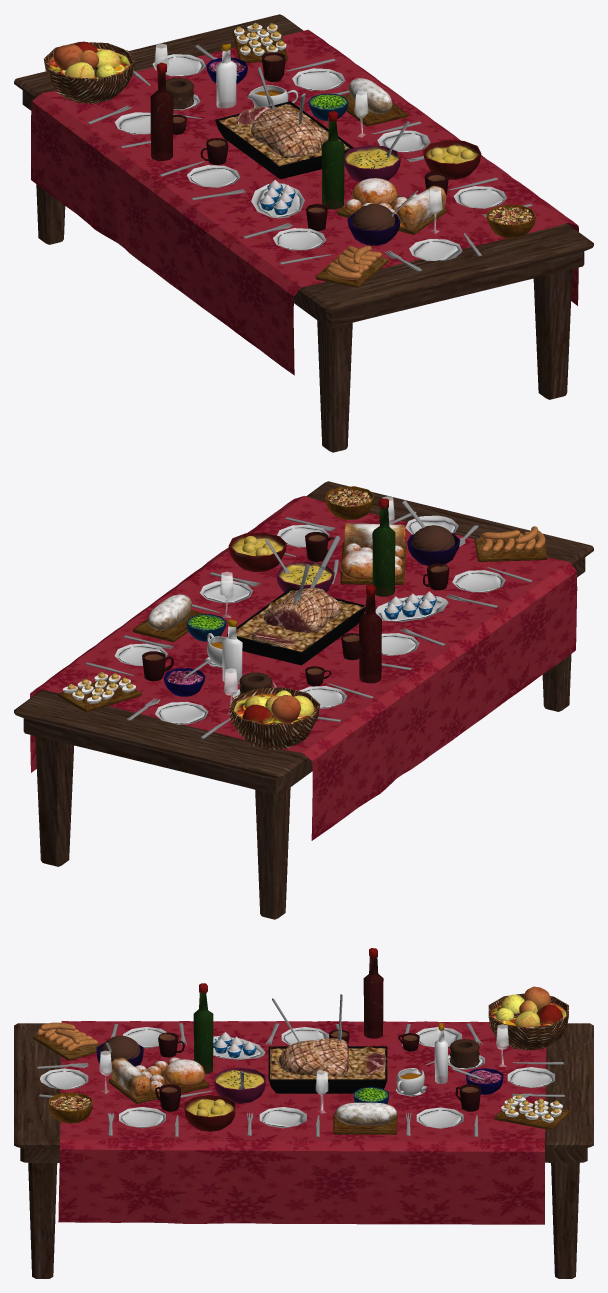
Rendered from diner.glb.
3 views of the same model, one above another, from view 1: azimuth 30°, elevation 25°; view 2: azimuth 150°, elevation 25°; view 3: azimuth 270°, elevation 25° (orthographic). The views are drawn at different scales.
Parts seen in each view (by area): view 1: polySurface16_tischdecke_0, polySurface17_tisch_0, pSphere11_teller1_0, pCube2_braten_0, pCylinder12_flaschen_0, pSphere33_obstschale_0, pCube8_besteck_0, pCube3_lambert10_0, pSphere19_lambert11_0, pDisc5_tasse_0, object 23, polySurface18_pudding_0 (+10 smaller); view 2: polySurface16_tischdecke_0, polySurface17_tisch_0, pSphere11_teller1_0, pCube2_braten_0, pCylinder12_flaschen_0, pSphere33_obstschale_0, pCube3_lambert10_0, pCube8_besteck_0, pDisc5_tasse_0, pSphere19_lambert11_0, object 23, polySurface18_pudding_0 (+9 smaller); view 3: polySurface16_tischdecke_0, polySurface17_tisch_0, pSphere11_teller1_0, pCube2_braten_0, pSphere33_obstschale_0, pCylinder12_flaschen_0, pCube3_lambert10_0, pSphere19_lambert11_0, pCube8_besteck_0, pDisc5_tasse_0, object 23, object 20 (+11 smaller).
Boxes of the visible parts, x1=… form: polySurface16_tischdecke_0: x1=31, y1=29, x2=578, y2=375; polySurface17_tisch_0: x1=14, y1=14, x2=593, y2=452; pSphere11_teller1_0: x1=114, y1=54, x2=506, y2=260; pCube2_braten_0: x1=215, y1=101, x2=353, y2=179; pCylinder12_flaschen_0: x1=150, y1=43, x2=344, y2=209; pSphere33_obstschale_0: x1=44, y1=41, x2=134, y2=103; pCube8_besteck_0: x1=87, y1=45, x2=532, y2=271; pCube3_lambert10_0: x1=232, y1=29, x2=446, y2=287; pSphere19_lambert11_0: x1=345, y1=178, x2=446, y2=228; pDisc5_tasse_0: x1=173, y1=52, x2=448, y2=231; object 23: x1=423, y1=140, x2=481, y2=179; polySurface18_pudding_0: x1=347, y1=204, x2=400, y2=245; polySurface16_tischdecke_0: x1=30, y1=496, x2=577, y2=840; polySurface17_tisch_0: x1=14, y1=481, x2=593, y2=919; pSphere11_teller1_0: x1=114, y1=515, x2=505, y2=724; pCube2_braten_0: x1=227, y1=587, x2=365, y2=665; pCylinder12_flaschen_0: x1=222, y1=498, x2=395, y2=684; pSphere33_obstschale_0: x1=229, y1=687, x2=320, y2=749; pCube3_lambert10_0: x1=58, y1=537, x2=547, y2=712; pCube8_besteck_0: x1=85, y1=500, x2=532, y2=739; pDisc5_tasse_0: x1=142, y1=532, x2=449, y2=686; pSphere19_lambert11_0: x1=340, y1=523, x2=405, y2=580; object 23: x1=228, y1=532, x2=286, y2=572; polySurface18_pudding_0: x1=407, y1=525, x2=460, y2=565; polySurface16_tischdecke_0: x1=58, y1=1021, x2=546, y2=1224; polySurface17_tisch_0: x1=14, y1=1023, x2=593, y2=1278; pSphere11_teller1_0: x1=40, y1=1027, x2=554, y2=1128; pCube2_braten_0: x1=268, y1=1038, x2=387, y2=1093; pSphere33_obstschale_0: x1=488, y1=986, x2=568, y2=1050; pCylinder12_flaschen_0: x1=193, y1=948, x2=447, y2=1084; pCube3_lambert10_0: x1=33, y1=1034, x2=570, y2=1134; pSphere19_lambert11_0: x1=111, y1=1057, x2=205, y2=1098; pCube8_besteck_0: x1=37, y1=994, x2=565, y2=1136; pDisc5_tasse_0: x1=155, y1=1029, x2=480, y2=1111; object 23: x1=184, y1=1095, x2=235, y2=1131; object 20: x1=214, y1=1067, x2=265, y2=1103.
Size of the model in its own units: 20.37 by 17.1 by 38.83.
Materials: 23 (20 with a texture image).
